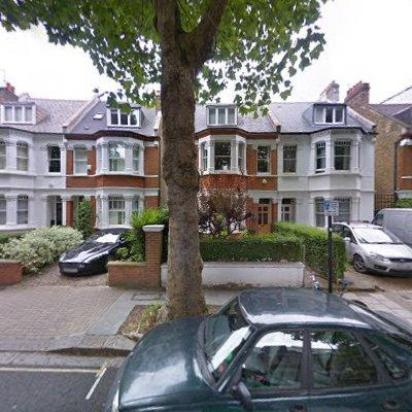stationary-car-offstreet: (324, 218, 412, 278), (60, 227, 138, 279)
stationary-car-onstreet: (103, 284, 412, 412)
